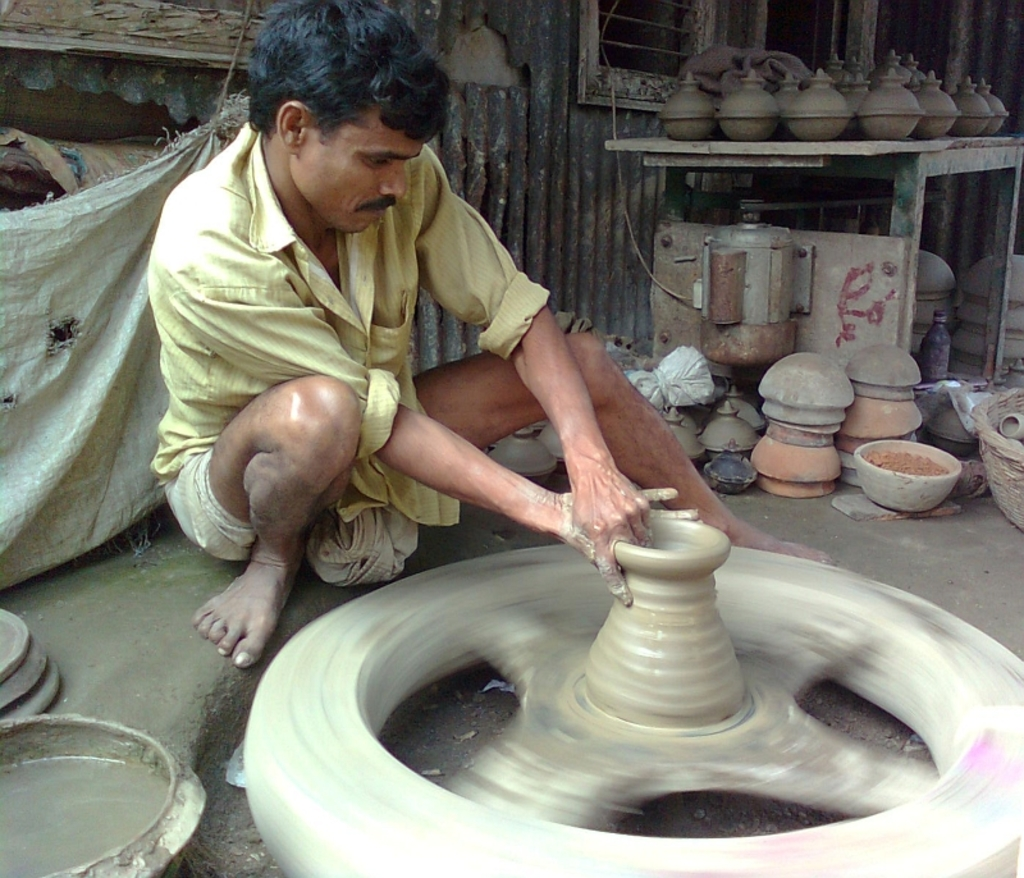Person: (147, 0, 832, 668)
